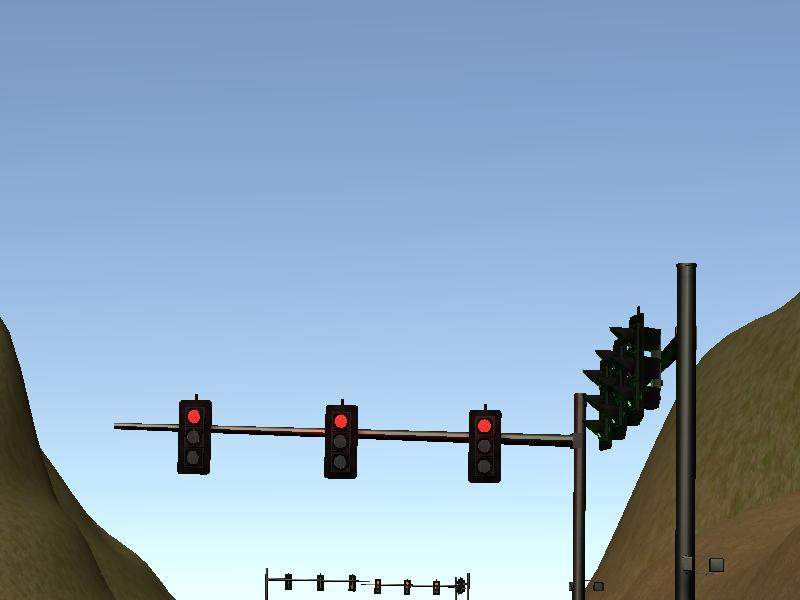Red: (467, 409, 503, 485), (323, 404, 359, 480), (177, 399, 213, 475)
